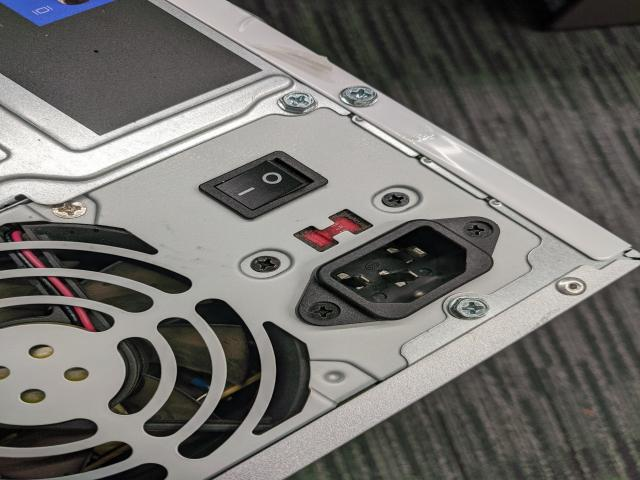CRS: (446, 295, 489, 320), (278, 90, 318, 113), (338, 86, 375, 107), (306, 301, 341, 321), (52, 201, 87, 219), (460, 222, 494, 240), (249, 256, 282, 273), (382, 191, 411, 207)
